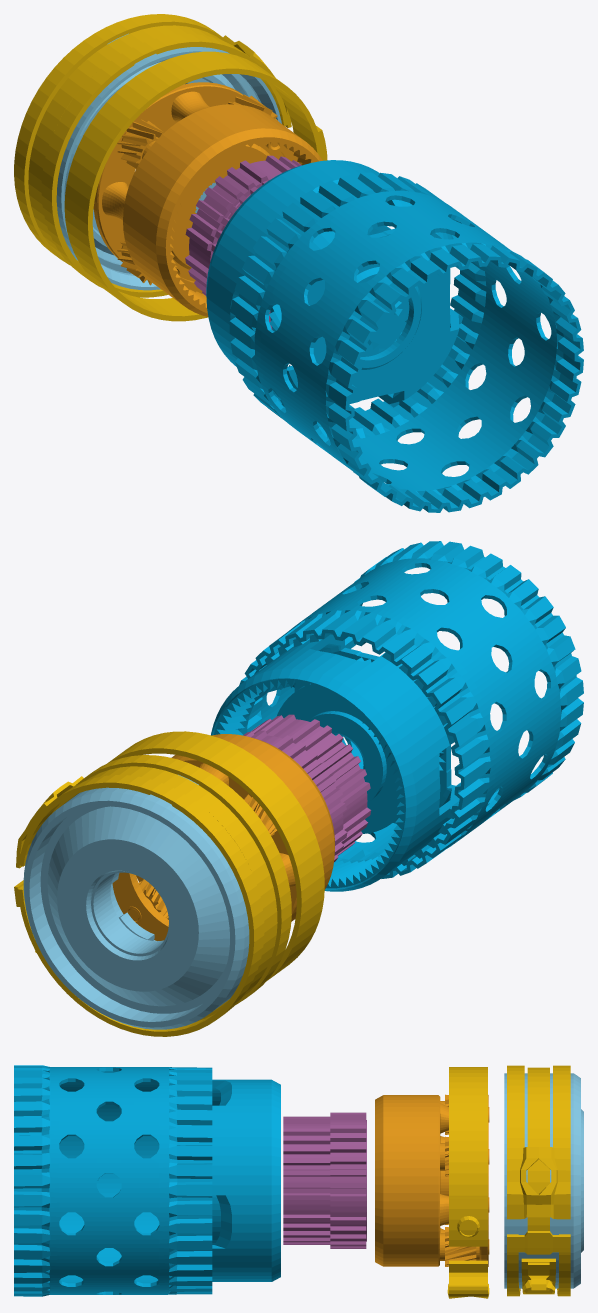
The model's file is AssemblySolid.fbx.
3 renders of one model, top to bottom at view 1: azimuth 30°, elevation 25°; view 2: azimuth 150°, elevation 25°; view 3: azimuth 270°, elevation 25°, orthographic. The views are drawn at different scales.
Visible parts, largest first — view 1: 669, 675, Cylinder, 688, 680, 681-687, 661-665; view 2: 669, 681-687, Cylinder, 688, 680, 675, 661-665; view 3: 669, Cylinder, 675, 688, 661-665, 680, 681-687.
Part boxes in pixels (<box>): 669: <box>229,172,583,512</box>; 675: <box>93,82,322,316</box>; Cylinder: <box>206,160,463,407</box>; 688: <box>14,14,291,297</box>; 680: <box>64,51,327,321</box>; 681-687: <box>56,33,281,290</box>; 661-665: <box>185,155,301,329</box>; 669: <box>239,541,583,878</box>; 681-687: <box>23,774,249,1029</box>; Cylinder: <box>211,633,459,891</box>; 688: <box>14,755,291,1036</box>; 680: <box>107,731,324,980</box>; 675: <box>112,734,334,940</box>; 661-665: <box>243,714,371,861</box>; 669: <box>14,1065,212,1296</box>; Cylinder: <box>212,1079,280,1281</box>; 675: <box>375,1094,489,1266</box>; 688: <box>507,1065,570,1296</box>; 661-665: <box>283,1112,366,1248</box>; 680: <box>447,1067,489,1298</box>; 681-687: <box>504,1073,583,1288</box>.
Bounding box in the file's own units: 1513 × 1482 × 3649.
